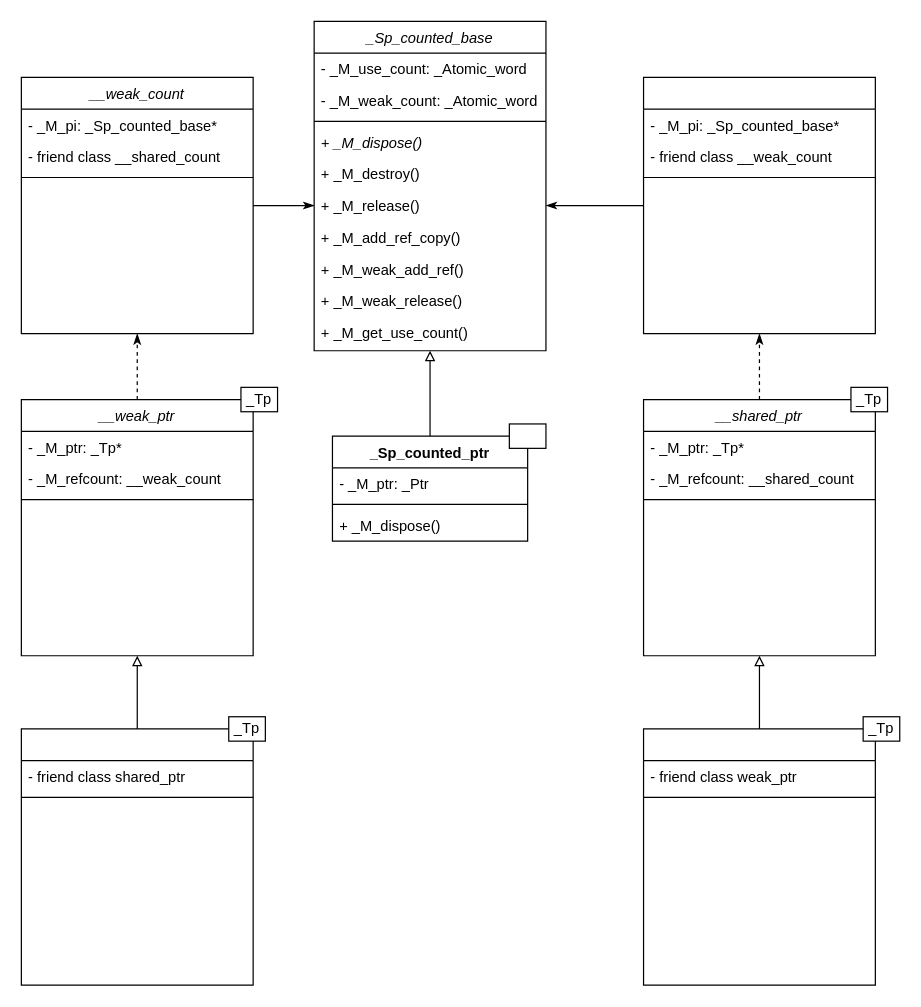
This 921x1007 diagram has some shape labels left out. Each missing label, with the box of its shape:
__shared_count: (642, 76, 875, 334)
_Ptr: (508, 423, 546, 448)
shared_ptr: (642, 728, 875, 985)
weak_ptr: (20, 728, 253, 985)
